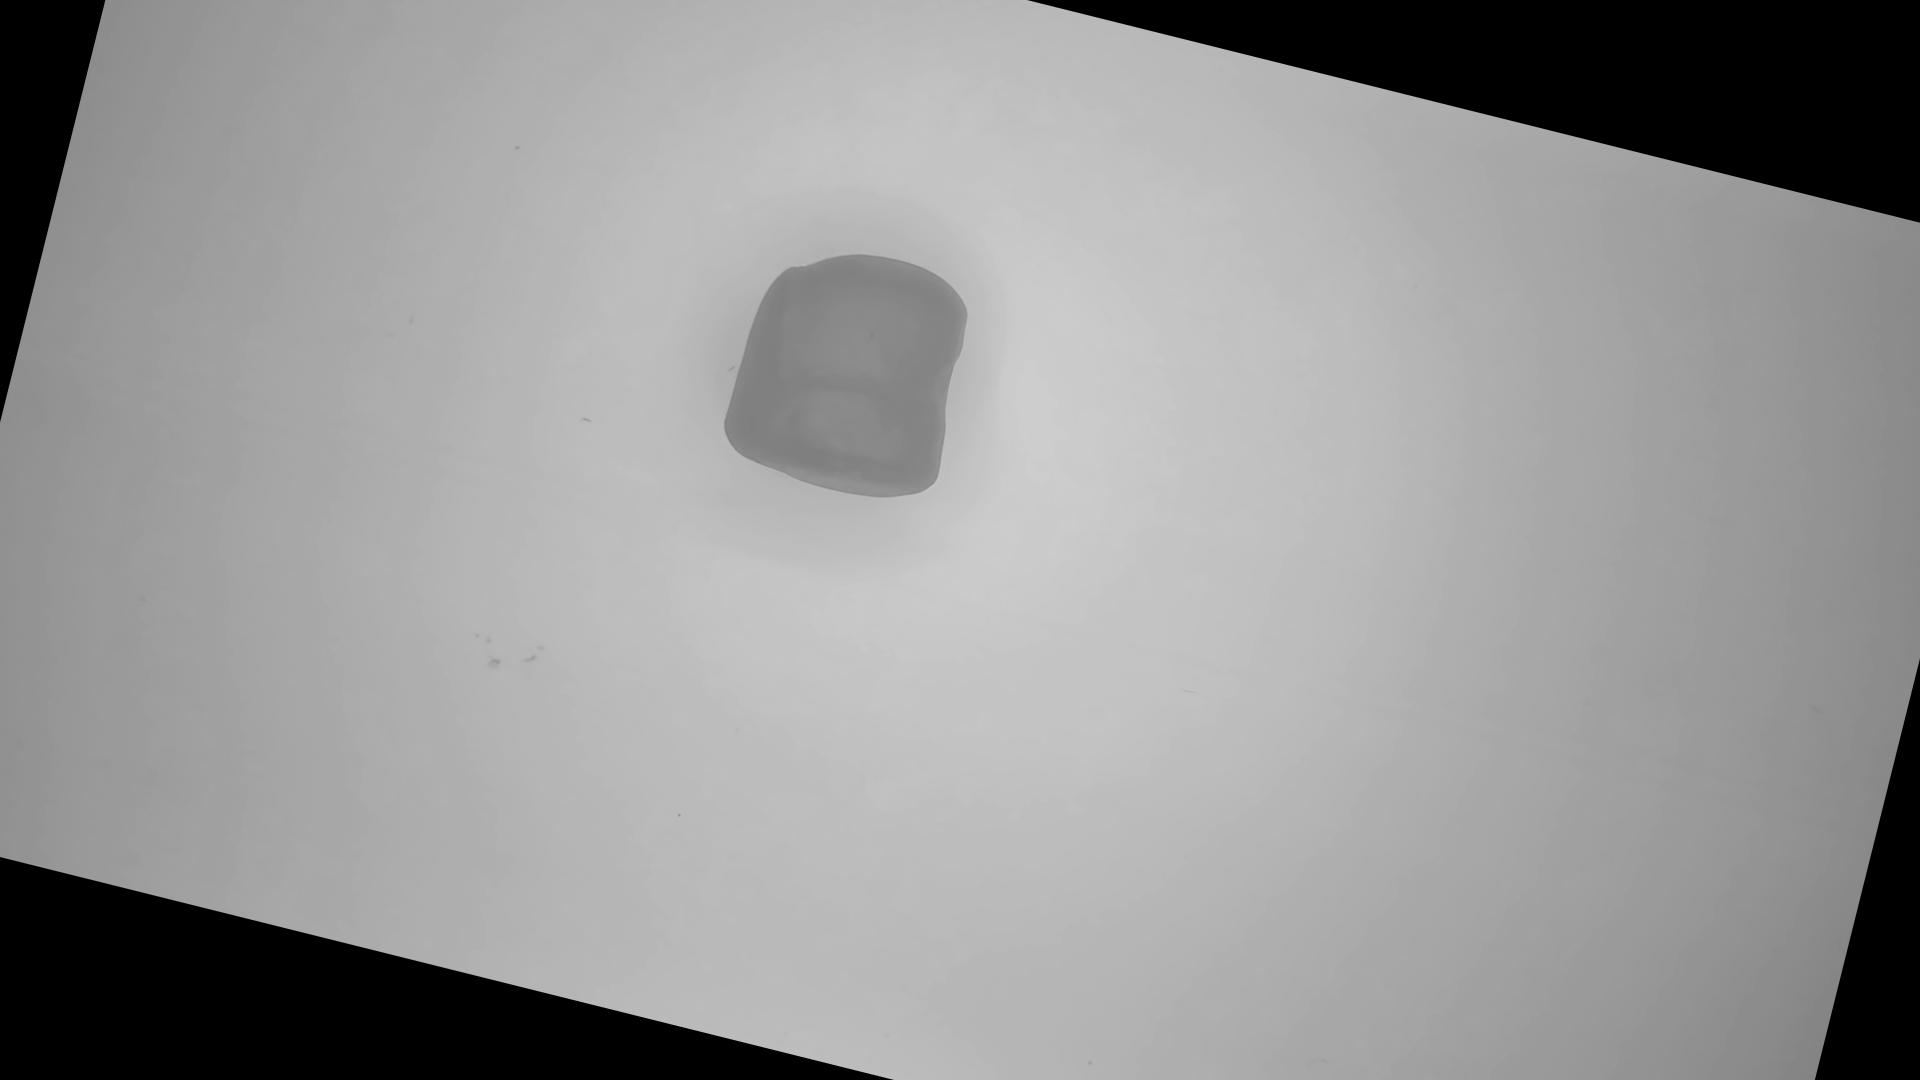abnormal: (712, 225, 994, 520)
